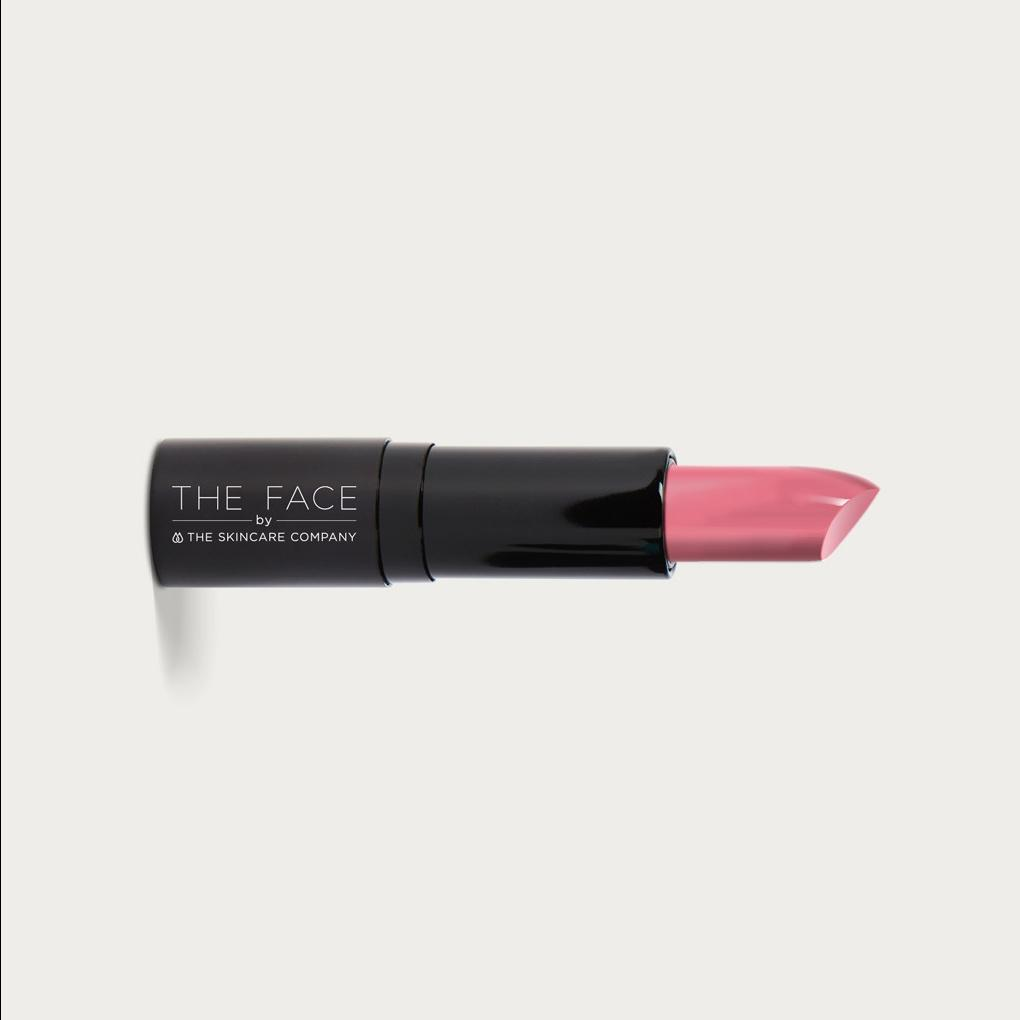lipstick: (151, 371, 888, 614)
